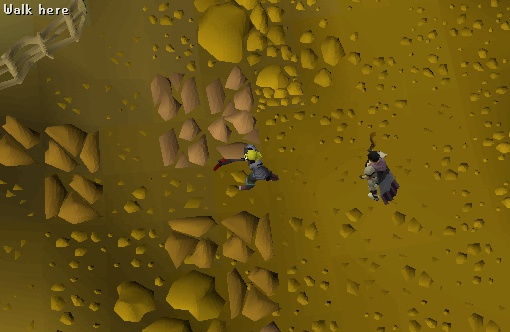granite: (141, 62, 208, 126), (152, 115, 212, 177)
sandstone: (149, 203, 224, 276), (33, 165, 108, 238), (210, 198, 285, 271)
